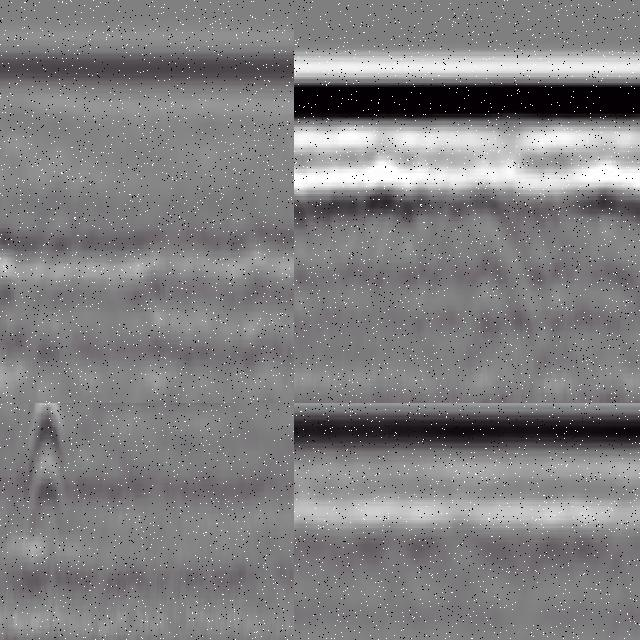crack: (25, 404, 61, 568)
loose: (1, 215, 69, 404), (295, 193, 333, 404)
